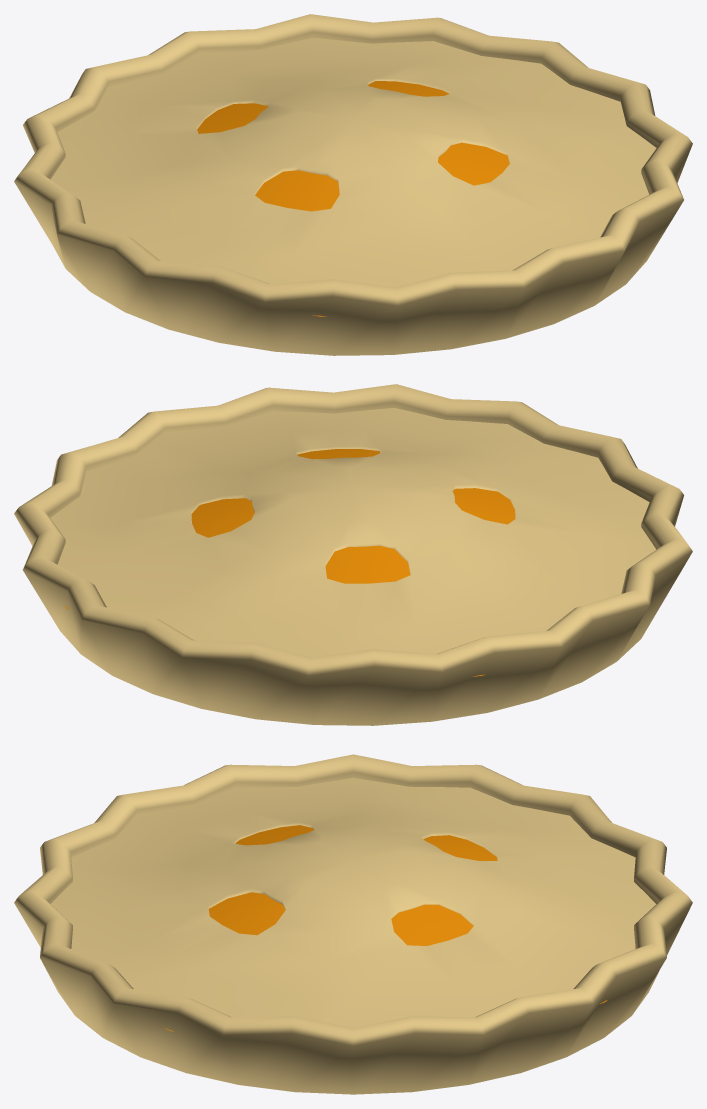
Rendered from Closed_Pie_UVed.fbx.
The picture shows the model from 3 angles, top to bottom: view 1: azimuth 30°, elevation 25°; view 2: azimuth 150°, elevation 25°; view 3: azimuth 270°, elevation 25°; orthographic projection.
Parts seen in each view (by area): view 1: polySurface1, pCylinder29, pCylinder28; view 2: polySurface1, pCylinder29, pCylinder28; view 3: polySurface1, pCylinder29, pCylinder28.
Part boxes in pixels (box(x1,y1,x2,y2)): polySurface1: box(50, 38, 656, 287); pCylinder29: box(14, 14, 692, 355); pCylinder28: box(197, 81, 509, 316); polySurface1: box(50, 408, 656, 657); pCylinder29: box(14, 384, 692, 725); pCylinder28: box(64, 449, 515, 676); polySurface1: box(50, 778, 656, 1027); pCylinder29: box(14, 754, 692, 1094); pCylinder28: box(164, 825, 607, 1031).
Size of the model in its own units: 20.26 by 3.57 by 20.26.
